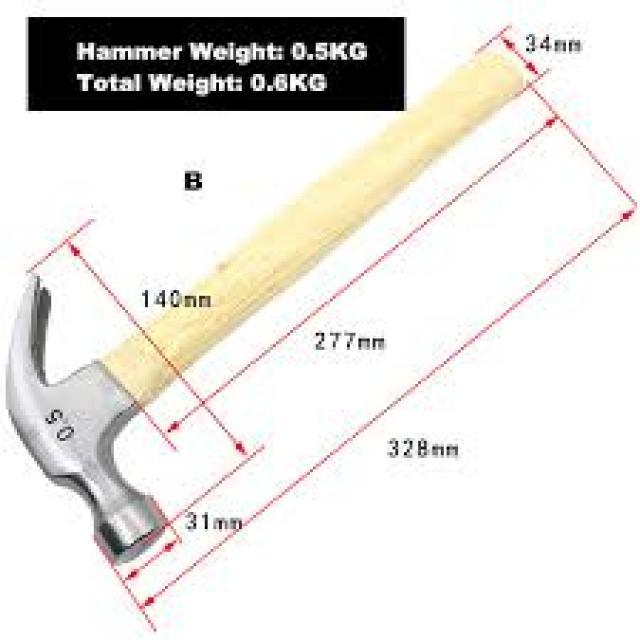hammer: (2, 25, 538, 569)
